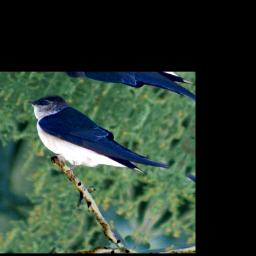Swallow: (0, 85, 183, 207)
